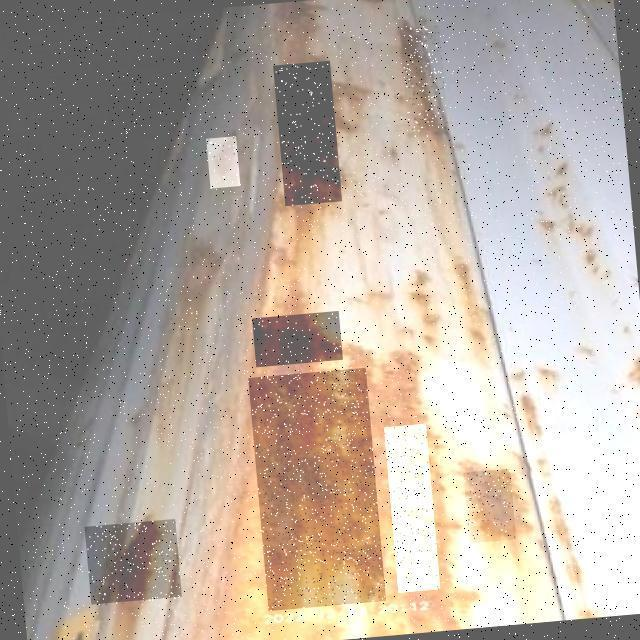rust: (249, 369, 387, 612), (274, 62, 343, 207), (385, 424, 441, 593), (85, 520, 183, 608), (400, 26, 449, 139), (253, 312, 344, 368), (166, 265, 226, 338), (464, 469, 517, 544), (207, 137, 241, 189)
